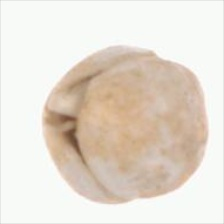L3: (43, 77, 92, 152)
L4: (42, 45, 208, 205)
